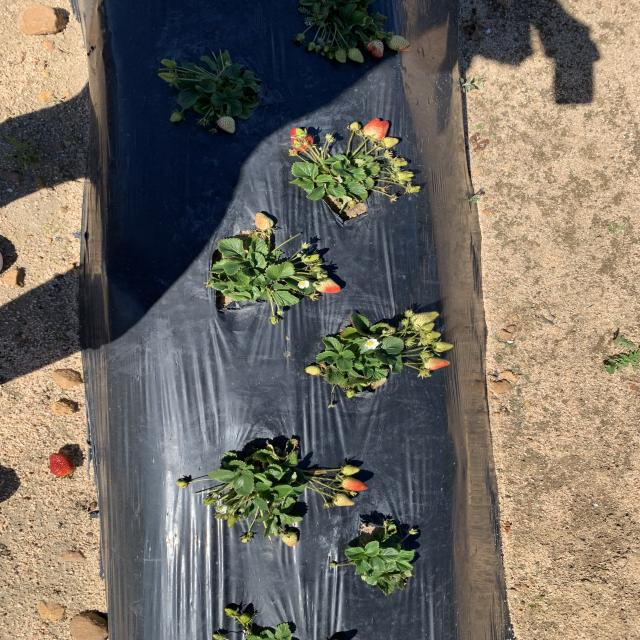unripe: (45, 454, 72, 478), (289, 127, 313, 151), (366, 118, 390, 140), (342, 478, 369, 491)
